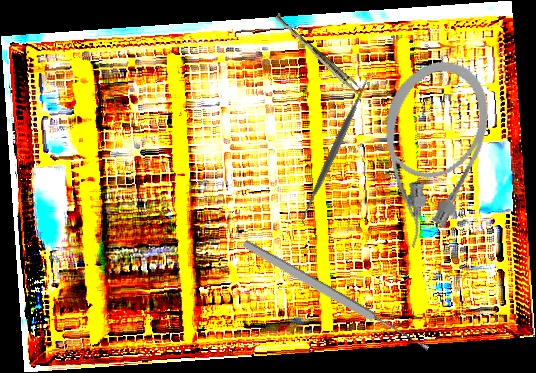Cannula: (350, 47, 505, 259)
Spatula Surgical: (292, 74, 377, 228)
Surgical Spoon: (241, 237, 431, 355)
Tissue Forceps: (271, 12, 368, 99)
